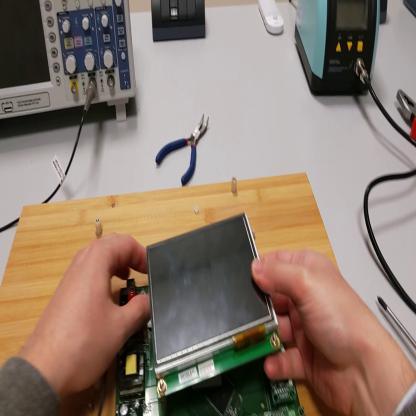hand: (250, 246, 368, 416), (41, 232, 154, 393)
low voltage board: (114, 212, 306, 416)
oscilloscope: (1, 1, 137, 124)
pliers: (155, 115, 213, 188), (398, 88, 416, 143)
screwdriver-: (378, 297, 416, 352)
socket: (404, 2, 416, 19), (381, 3, 389, 25)
welder station: (295, 3, 381, 96)
working area: (1, 172, 341, 414)
